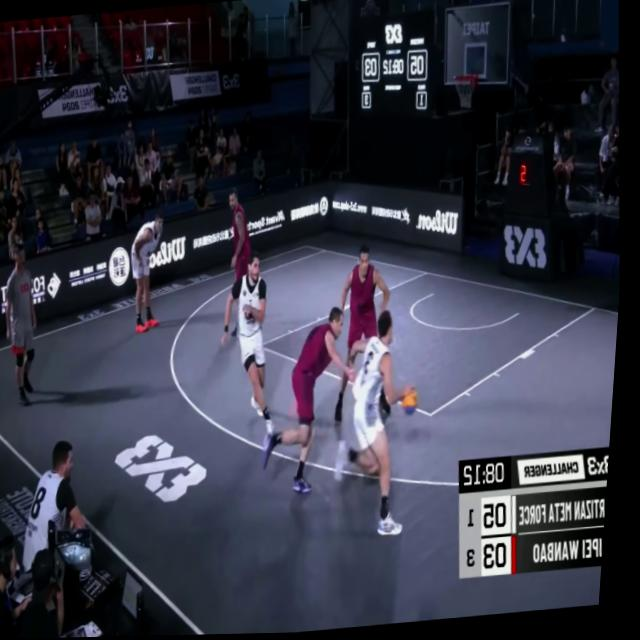ball: (403, 378, 429, 422)
hoop: (449, 70, 481, 118)
player: (324, 305, 442, 546), (255, 302, 373, 498), (206, 248, 294, 450), (325, 241, 406, 429), (208, 183, 273, 350), (124, 210, 176, 332)
